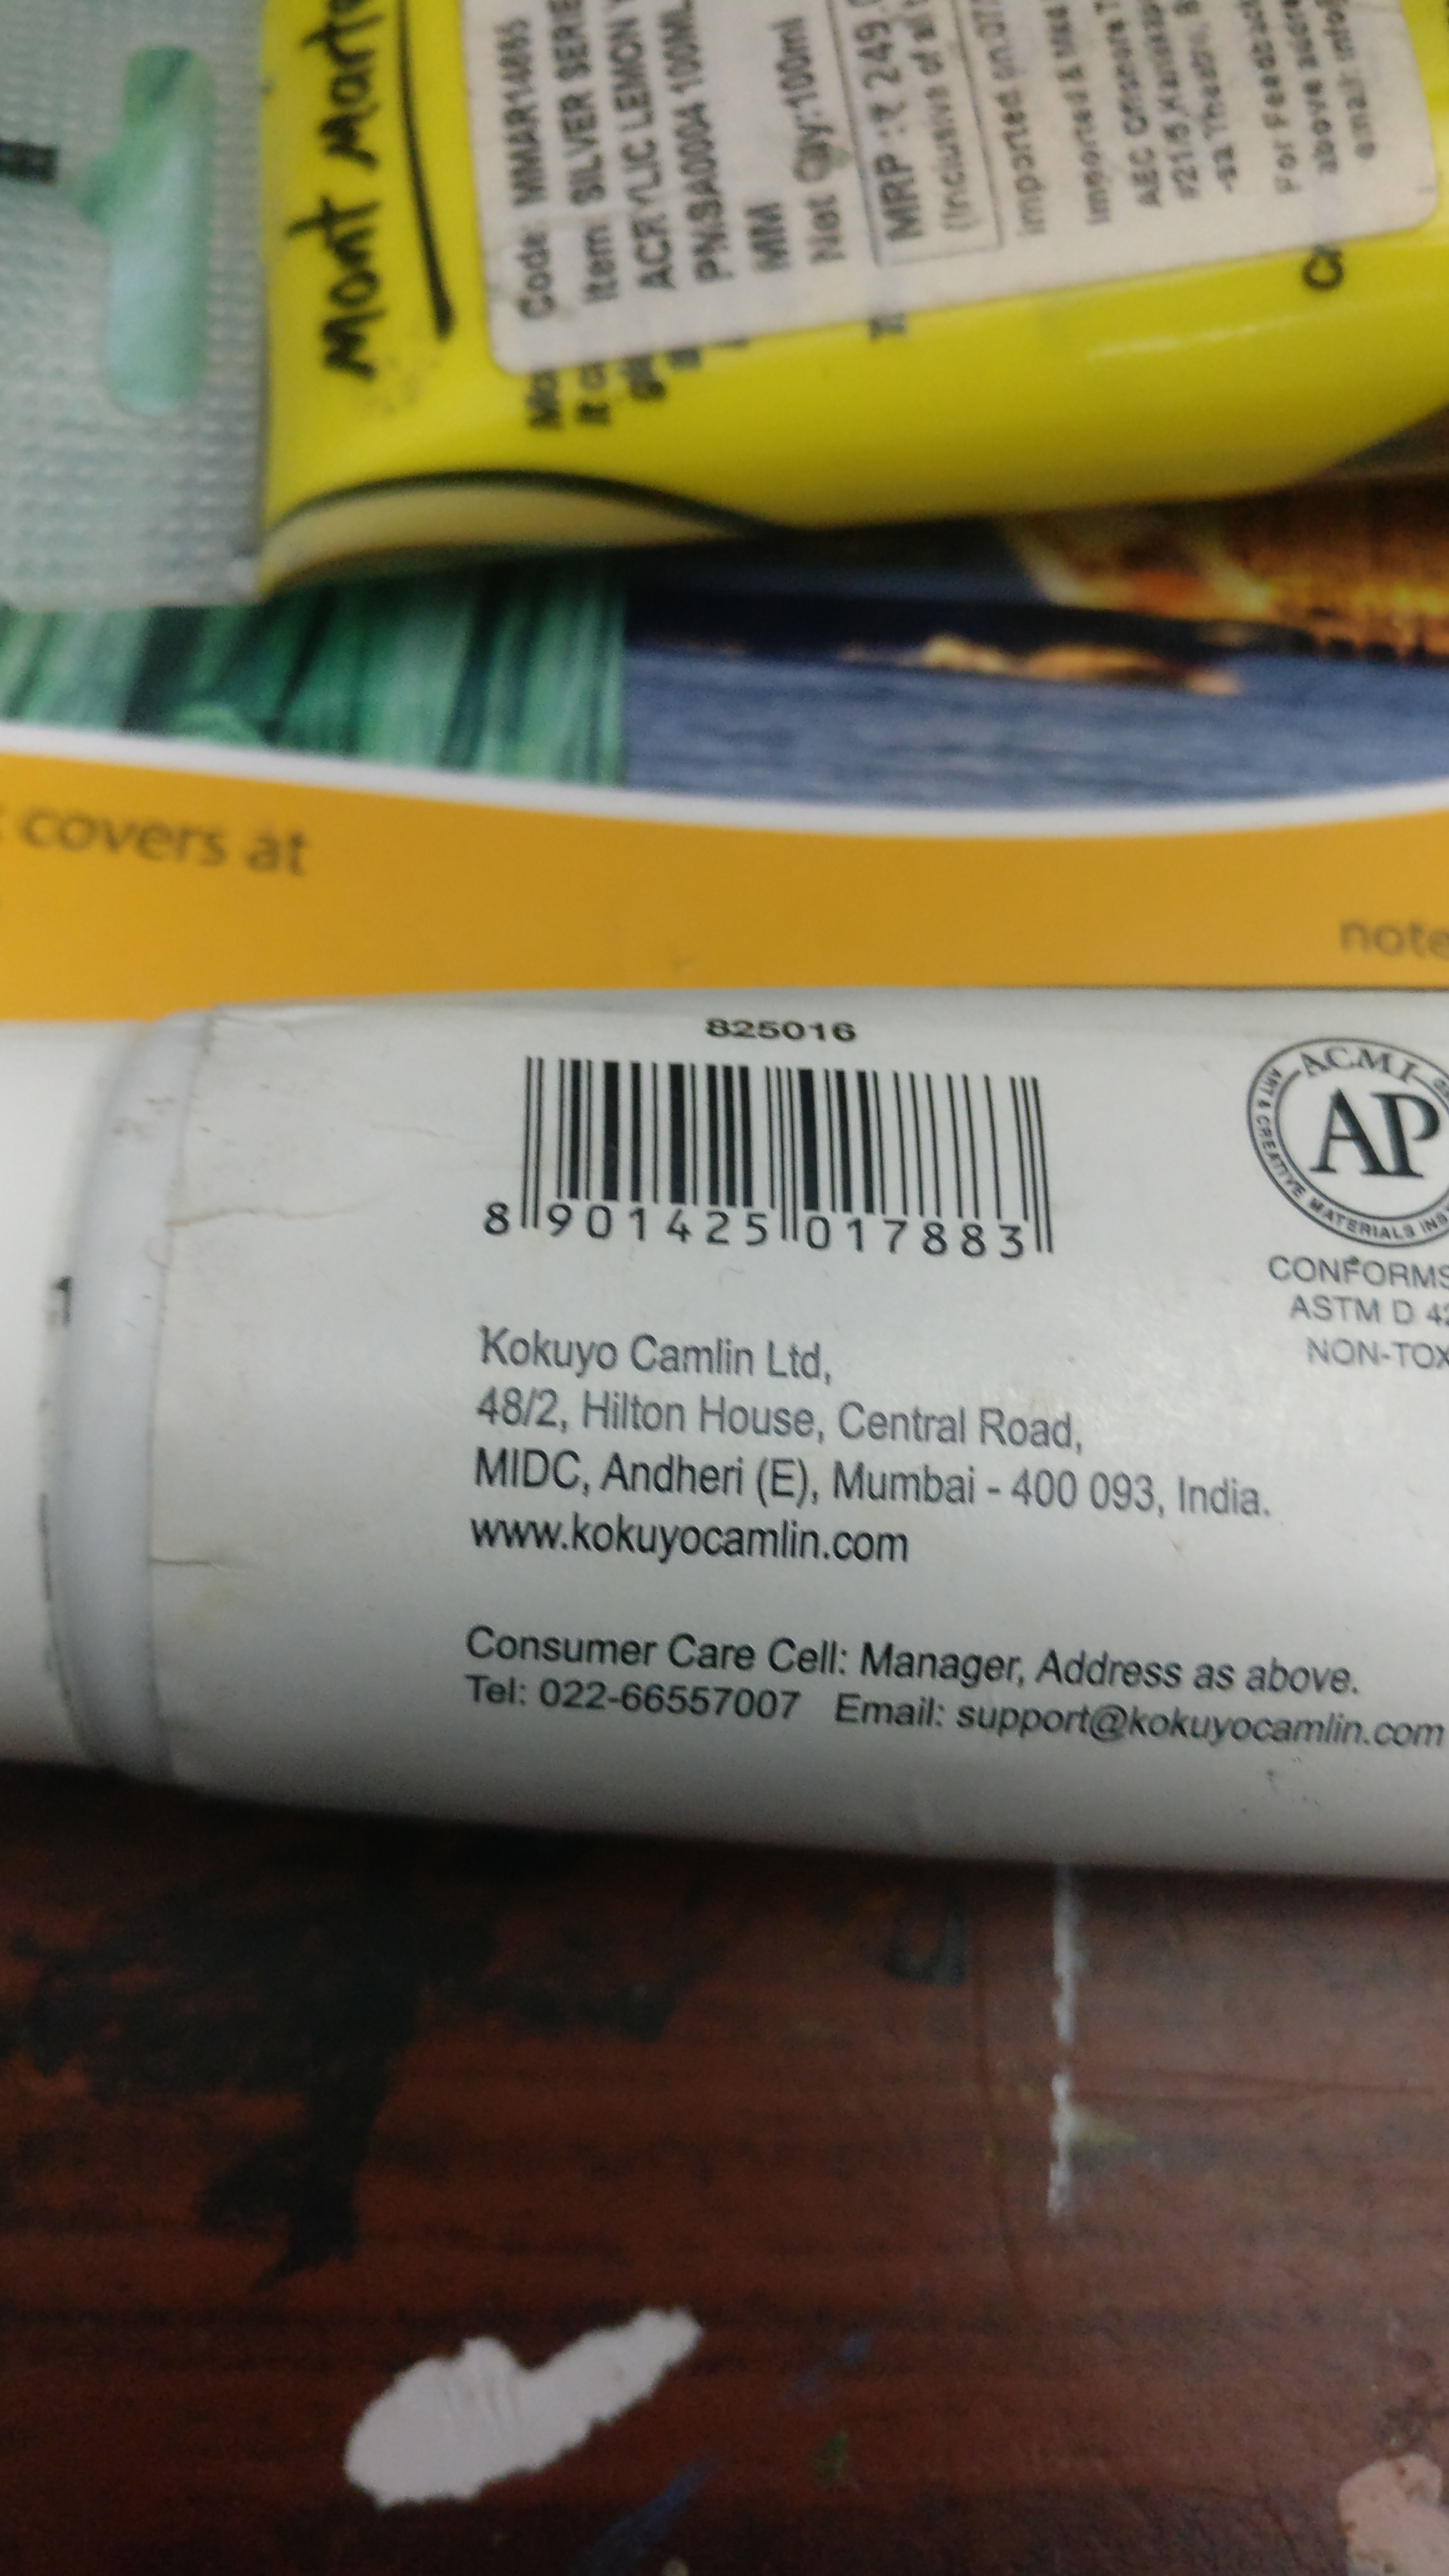barcode: (467, 1000, 1072, 1292)
